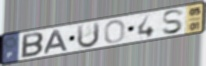4: (136, 13, 157, 39)
A: (43, 28, 70, 55)
B: (20, 31, 45, 60)
O: (103, 19, 126, 44)
S: (161, 8, 186, 36)
U: (76, 21, 101, 50)
